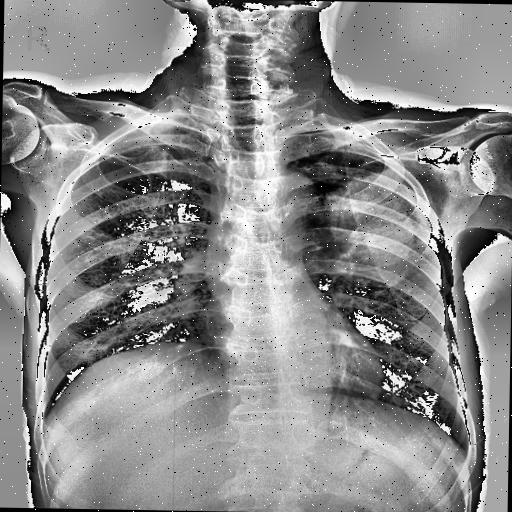4- Consolidation: (316, 176, 430, 268)
7- Lung Opacity: (320, 166, 438, 266), (316, 176, 430, 268)
8- Nodule-Mass: (320, 166, 438, 266), (315, 166, 431, 266), (316, 176, 430, 268)
